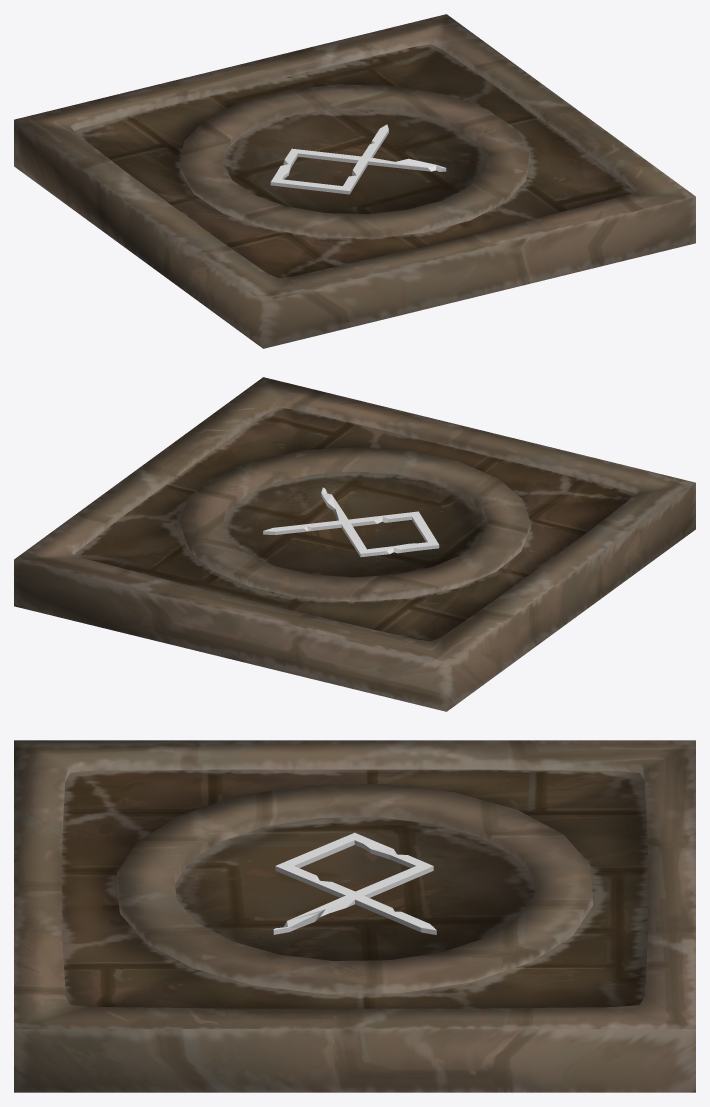
The model's file is baldosa a.fbx.
3 renders of one model, top to bottom at view 1: azimuth 30°, elevation 25°; view 2: azimuth 150°, elevation 25°; view 3: azimuth 270°, elevation 25°, orthographic. The views are drawn at different scales.
Parts seen in each view (by area): view 1: baldosa low.004, runa a.001; view 2: baldosa low.004, runa a.001; view 3: baldosa low.004, runa a.001.
Part boxes in pixels (bbox=[...]): baldosa low.004: bbox=[14, 14, 695, 348]; runa a.001: bbox=[270, 124, 446, 194]; baldosa low.004: bbox=[14, 377, 695, 711]; runa a.001: bbox=[263, 487, 439, 556]; baldosa low.004: bbox=[14, 740, 695, 1092]; runa a.001: bbox=[273, 832, 436, 934].
Bounding box in the file's own units: 45.2 × 4.66 × 45.12.
2 materials, 1 textured.
